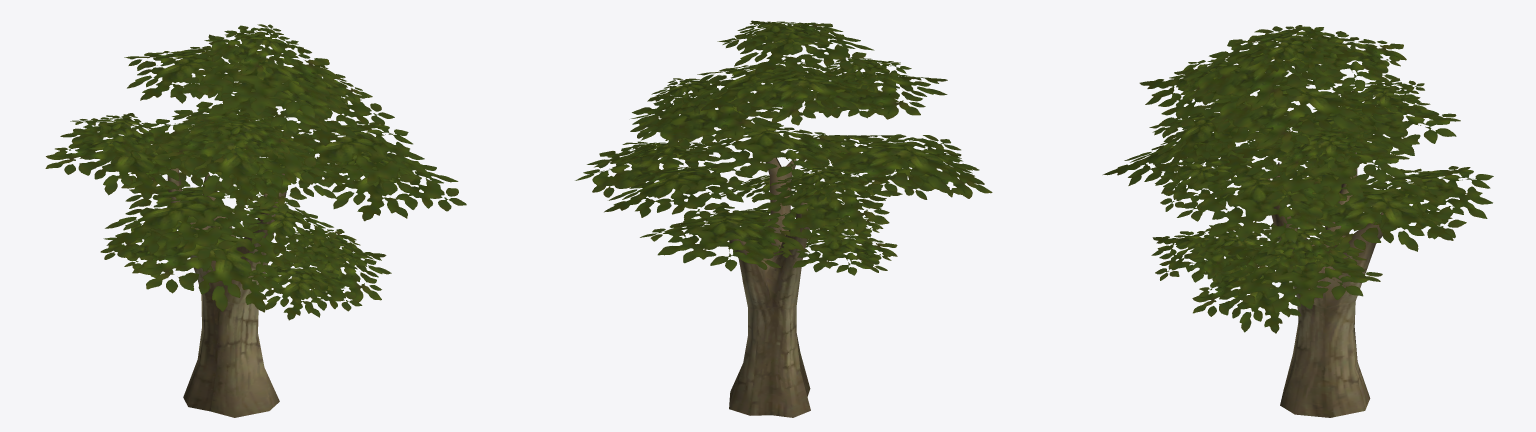
File: tree_C.fbx
3 renders of one model, left to right at view 1: azimuth 30°, elevation 25°; view 2: azimuth 150°, elevation 25°; view 3: azimuth 270°, elevation 25°, orthographic. The views are drawn at different scales.
Parts seen in each view (by area): view 1: leaves_F, trunk_F; view 2: leaves_F, trunk_F; view 3: leaves_F, trunk_F.
Part boxes in pixels (left/top/right/bottom): leaves_F: left=45, top=24, right=466, bottom=320; trunk_F: left=167, top=168, right=286, bottom=417; leaves_F: left=575, top=20, right=992, bottom=275; trunk_F: left=729, top=157, right=810, bottom=417; leaves_F: left=1103, top=25, right=1493, bottom=333; trunk_F: left=1268, top=152, right=1383, bottom=417.
Size of the model in its own units: 8.82 by 7.13 by 8.25.
